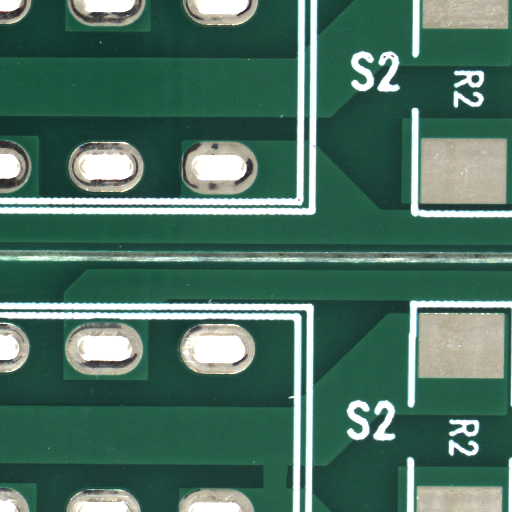Short: (272, 476, 312, 512)
